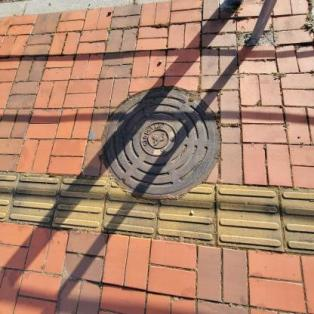Podoctatil: (0, 164, 313, 265)
